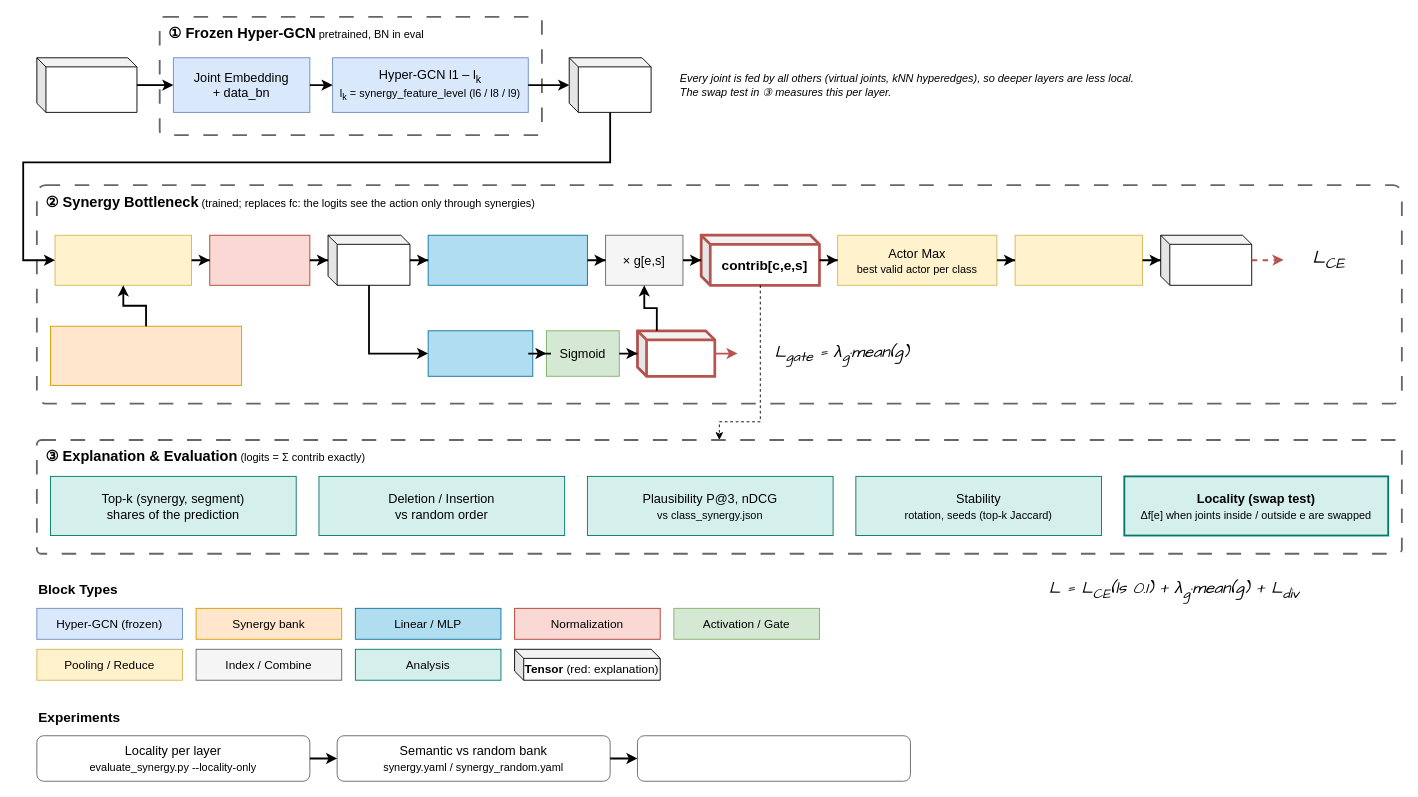
The diagram is 1418 pixels wide and 797 high, and some of its shapes have lost their labels. Here are the shapes that lost their labels. From the top down, the centre of each, then its label:
(x=86, y=84): Skeleton [N,3,T,25,M]
(x=609, y=84): F [N,M,C,T,V]
(x=123, y=259): Synergy × Segment Pooling
(x=259, y=259): LayerNorm no affine
(x=368, y=259): f[e,s] 19 × 4 × C
(x=507, y=259): Readout 5/√C · ⟨unit(w c,e ), f⟩
(x=1078, y=259): Σ e,s contrib + b c
(x=1206, y=259): Action logits
(x=146, y=355): Synergy Bank 19 named joint groups control: random groups, same sizes
(x=480, y=353): MLP e one per synergy
(x=676, y=353): g[e,s]
(x=773, y=758): Explanations of the best run evaluate_synergy.py, heatmaps
